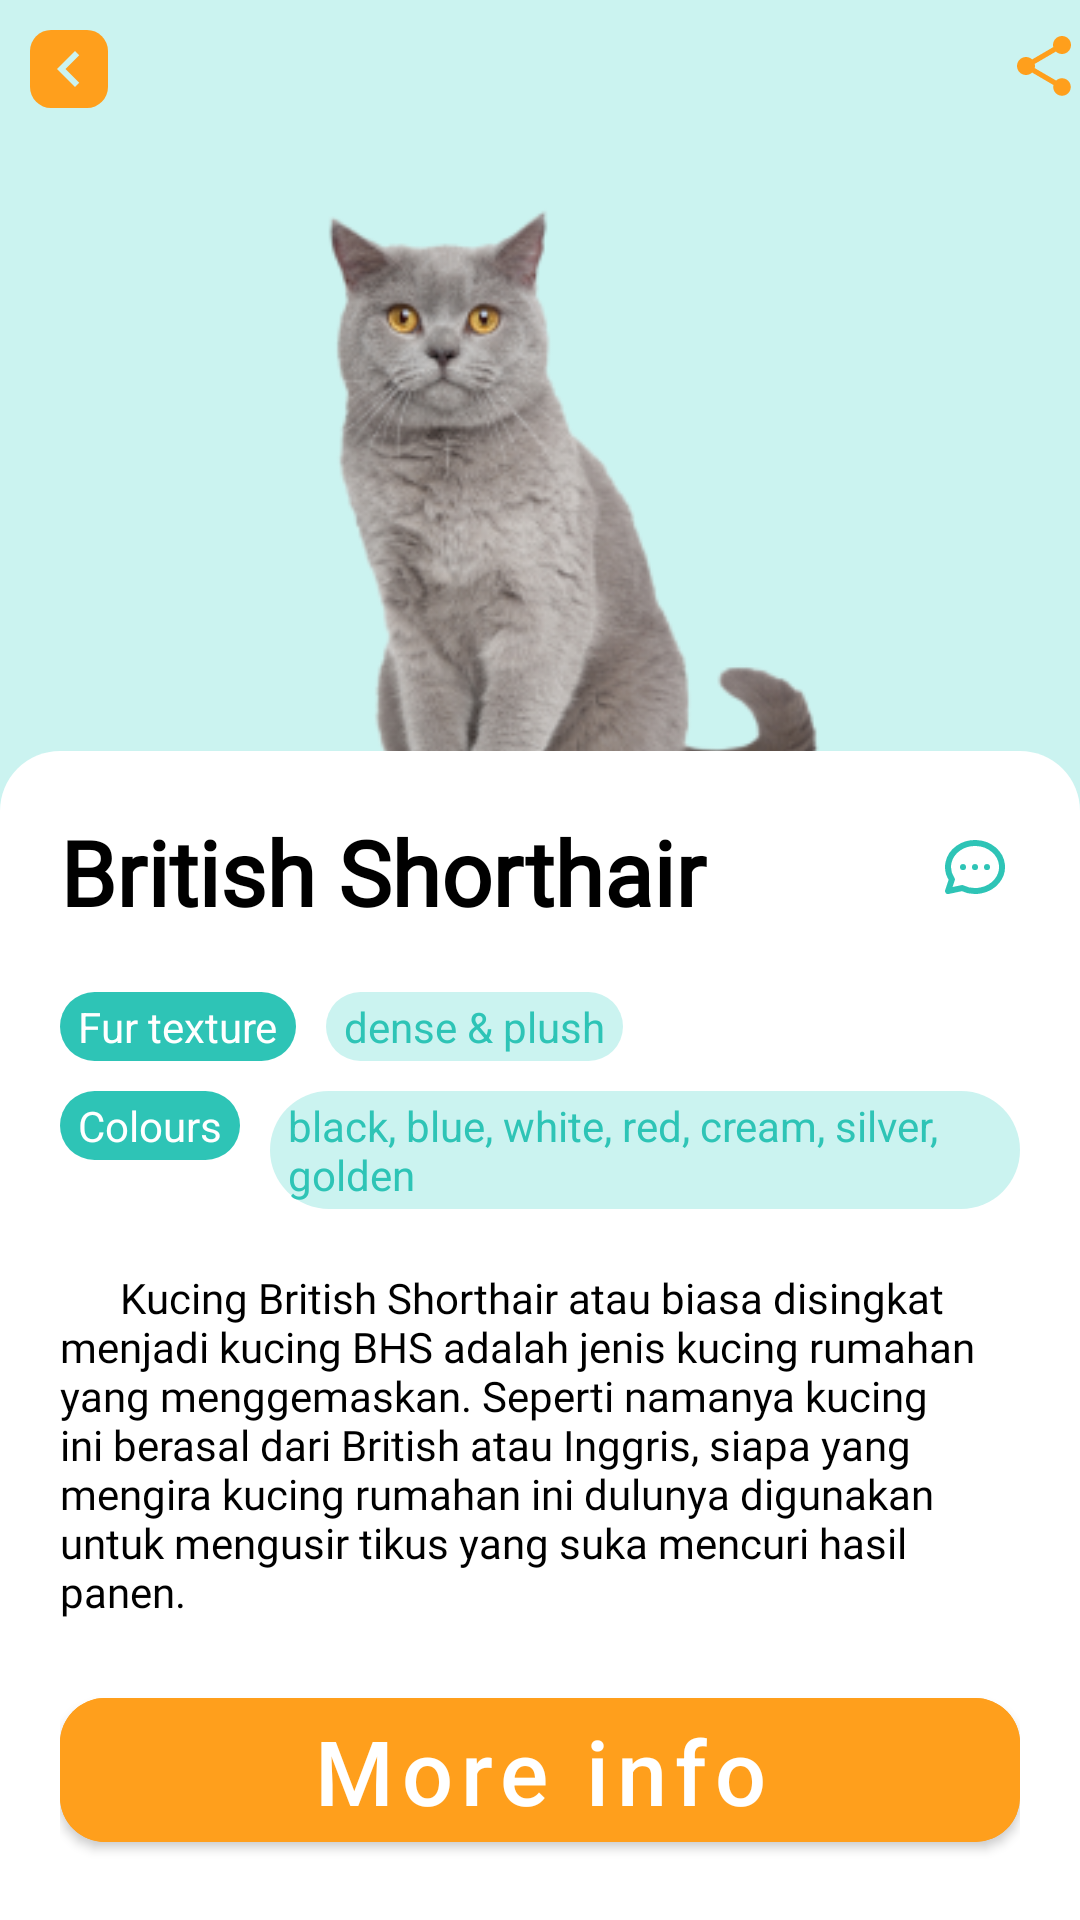

Point at icon controls on the screen. Image size 1080*1920, points as (x=x, y=y).
cheveron: (x=69, y=69)
message: (x=975, y=867)
share: (x=1044, y=66)
